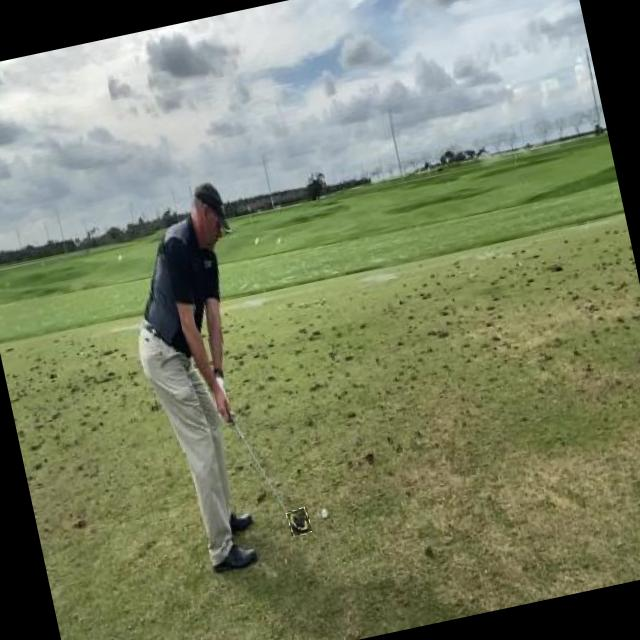club head: (286, 507, 312, 536)
